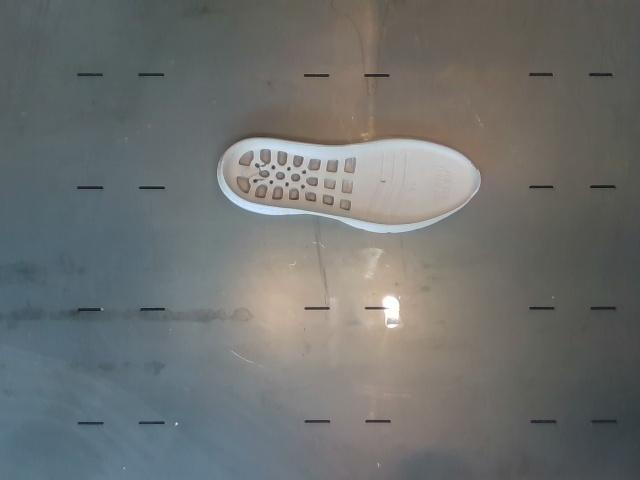shoes: (222, 138, 477, 225)
